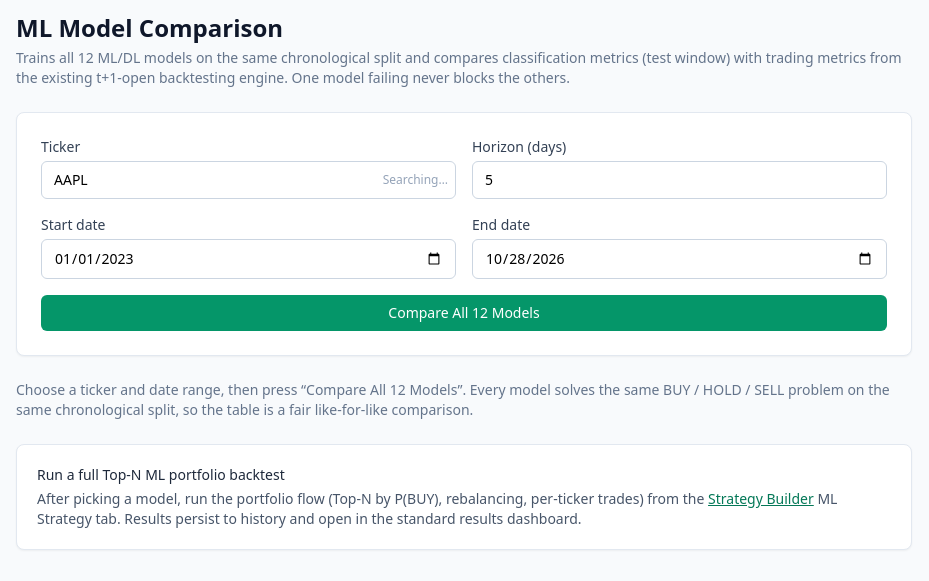
Test case: MLComparisonPage › shows an API error and stays interactive
The image size is (929, 581).
In the dropdown labelled "Ticker": (248, 180) [41,161,456,199], type "X"
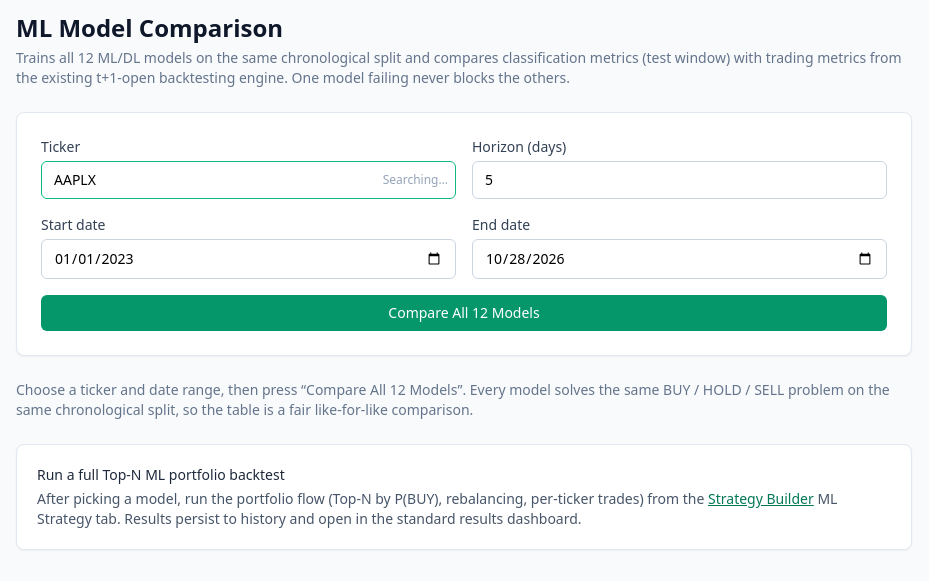
Click the button "Compare All 12 Models": click(464, 313) [41,295,887,331]
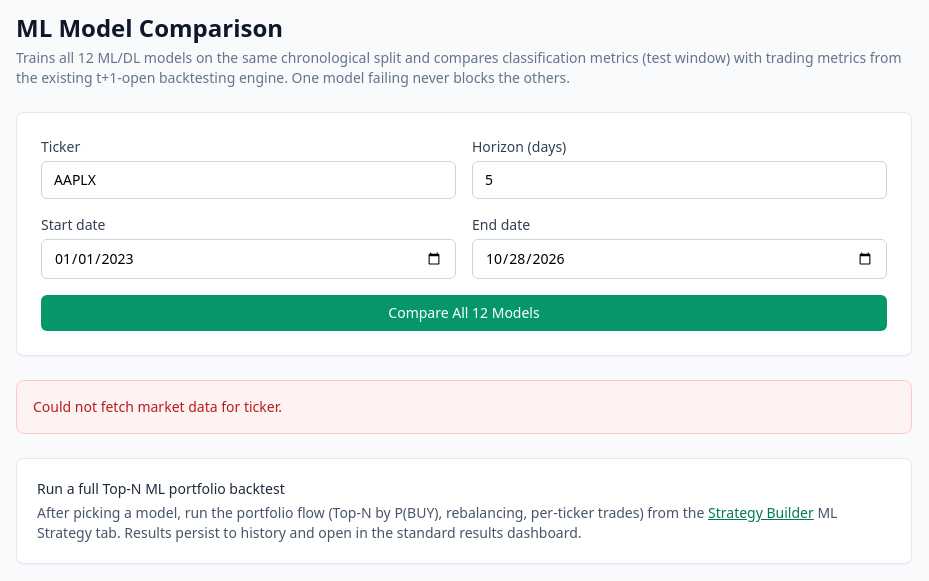
Result: the text "Could not fetch market data for ticker." is shown at [16,380,912,434]
